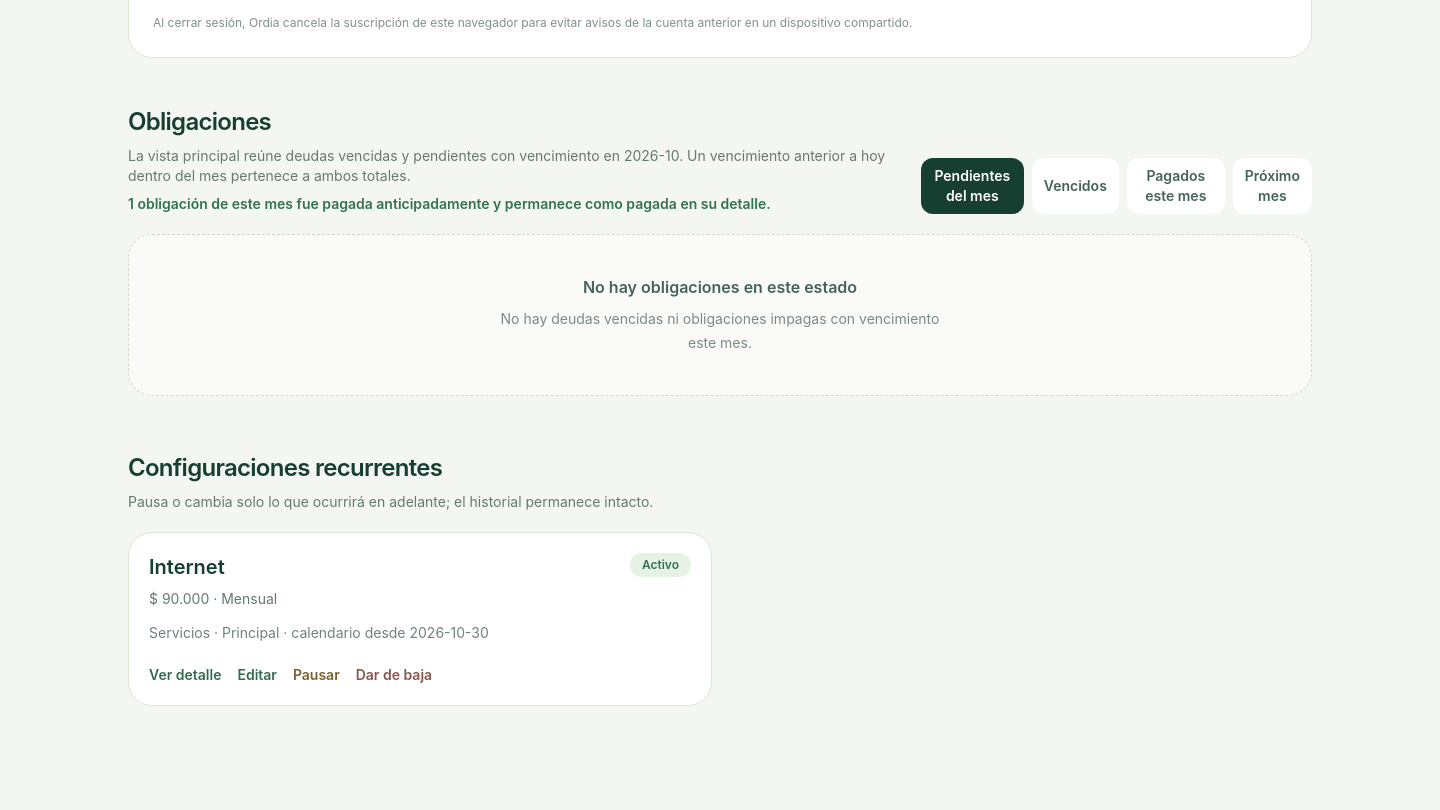
Test: gastos fijos › mantiene como pagado un vencimiento del mes abonado anticipadamente
(page scrolled)
Expected: the text "1 obligación de este mes fue pagada anticipadamente" is shown, [128, 194, 771, 212]
Click the button "Ver detalle": click(185, 674) [149, 664, 221, 684]
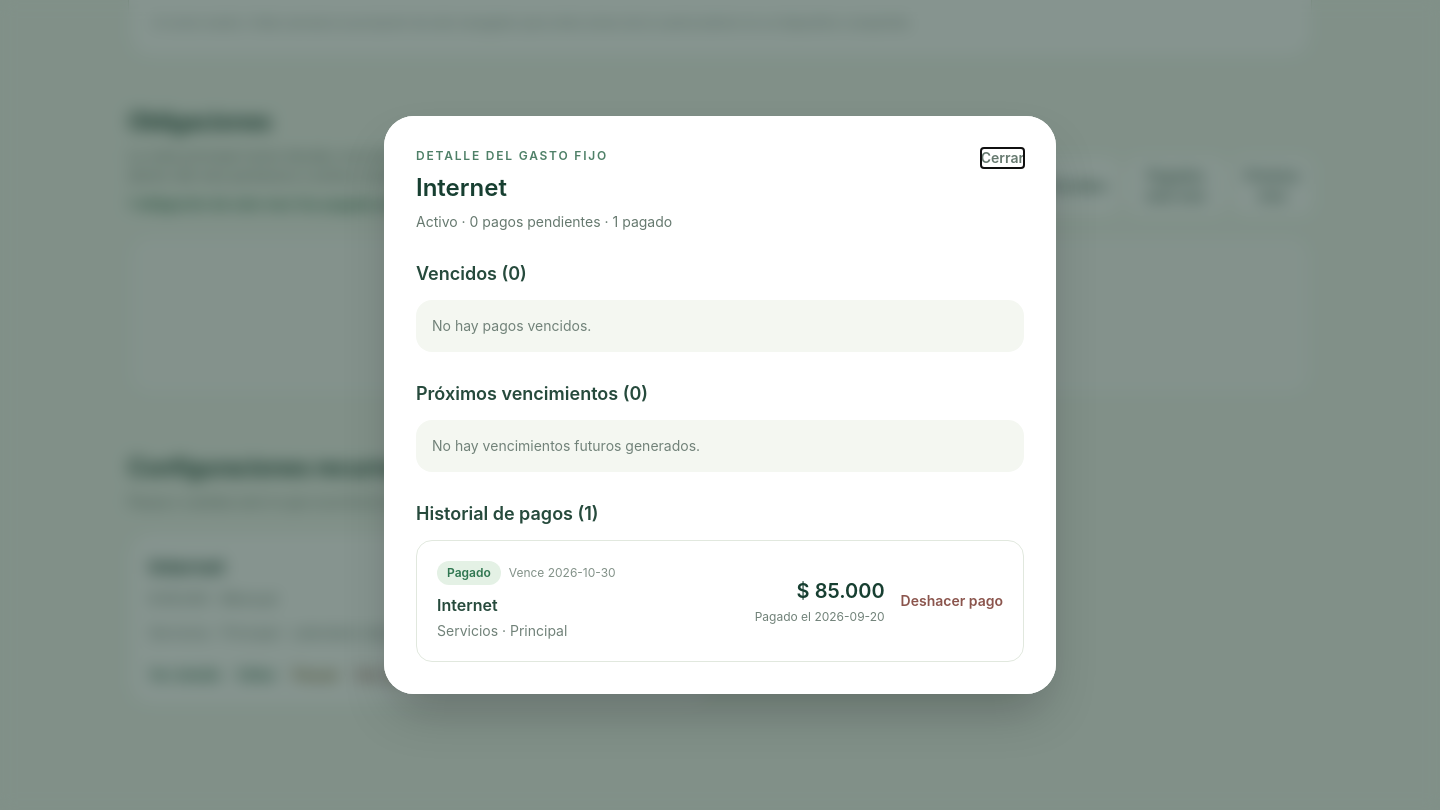
Expected: the text "Pagado el 2026-09-20" is shown, [755, 609, 885, 625]
